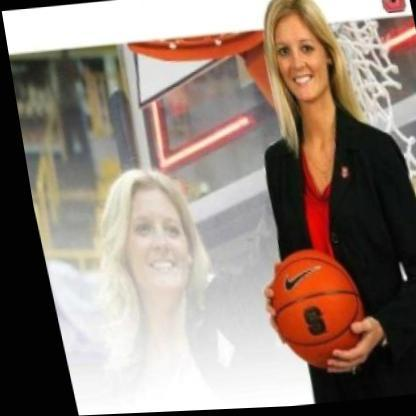basketball: (244, 242, 370, 383)
